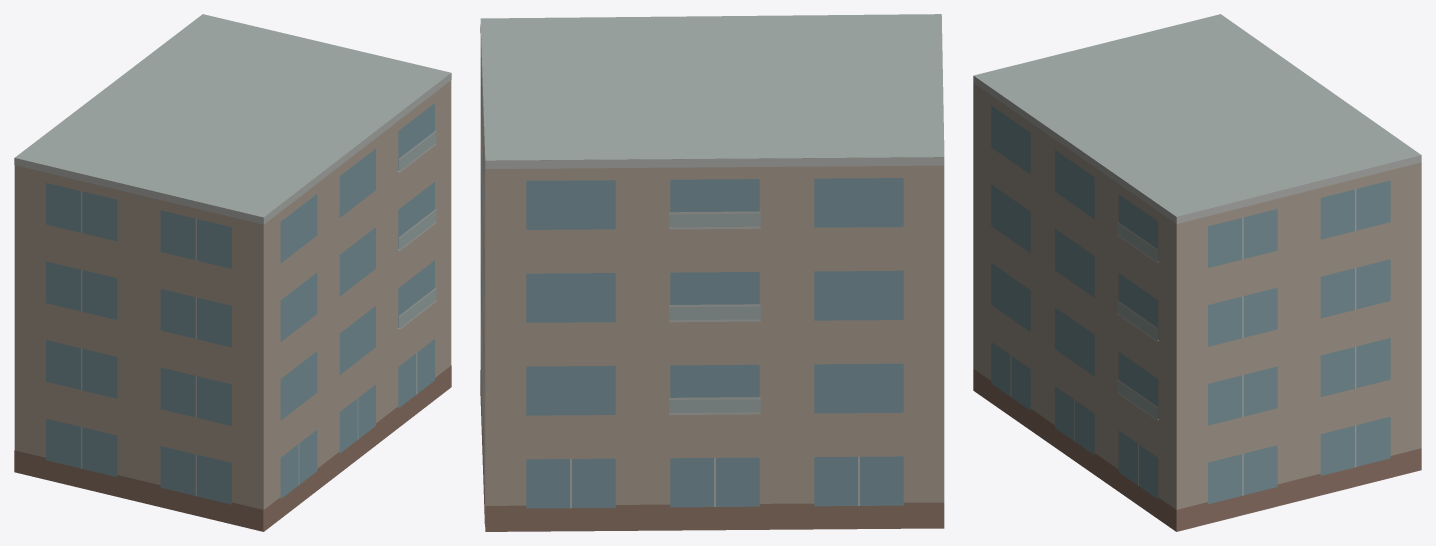
File: survey-upis-32537364.glb
The picture shows the model from 3 angles, left to right: view 1: azimuth 30°, elevation 25°; view 2: azimuth 150°, elevation 25°; view 3: azimuth 270°, elevation 25°; orthographic projection. The views are drawn at different scales.
Visible parts, largest first — view 1: survey-upis-32537364.tmp; view 2: survey-upis-32537364.tmp; view 3: survey-upis-32537364.tmp.
Boxes of the visible parts, bbox=[...] form: survey-upis-32537364.tmp: bbox=[14, 14, 451, 531]; survey-upis-32537364.tmp: bbox=[480, 14, 944, 531]; survey-upis-32537364.tmp: bbox=[973, 14, 1421, 531].
Size of the model in its own units: 14.65 by 10.6 by 13.68.
